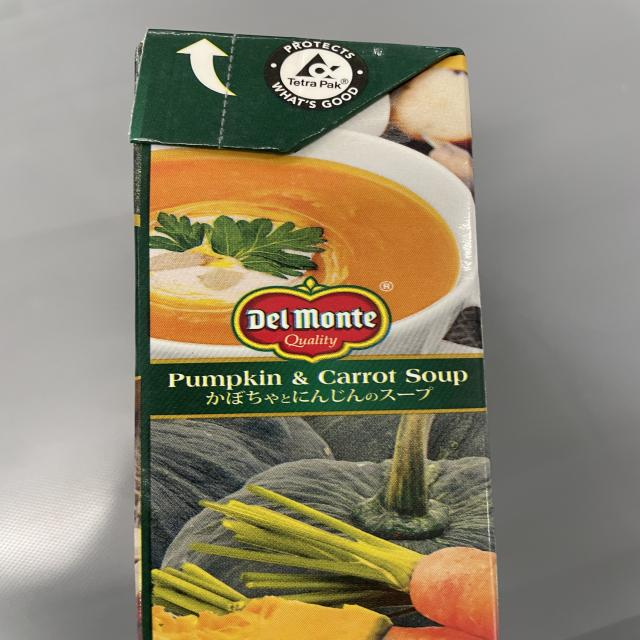object_name: (146, 33, 487, 638)
